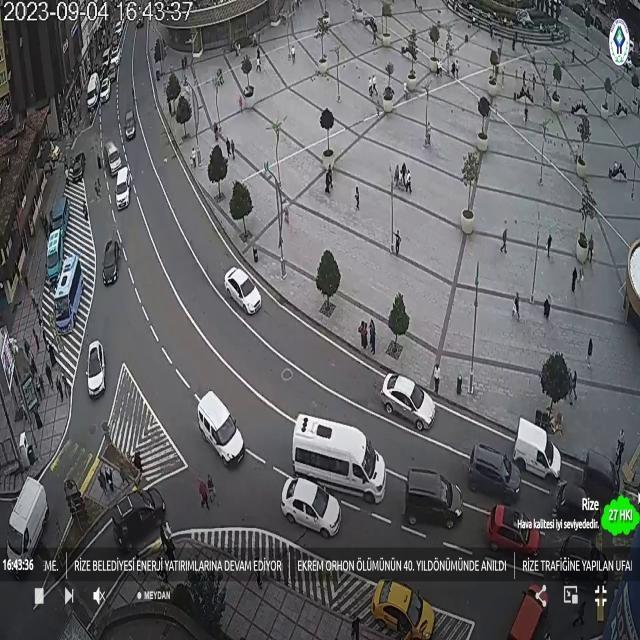Car: (196, 391, 248, 467), (281, 478, 343, 540), (379, 373, 438, 431), (466, 441, 524, 500), (222, 268, 261, 316), (85, 336, 106, 400), (98, 237, 124, 288), (113, 165, 134, 212)
Van: (290, 408, 388, 506), (406, 467, 464, 527), (513, 412, 562, 482)
